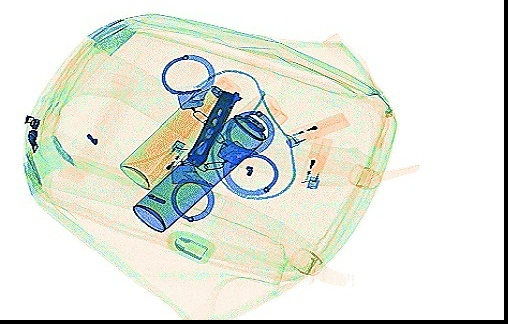handcuffs: (158, 53, 278, 221)
knife: (186, 87, 241, 169)
lighter: (141, 137, 187, 191), (283, 111, 350, 147), (294, 133, 334, 189)
pressure: (130, 90, 288, 233), (117, 73, 241, 192)
